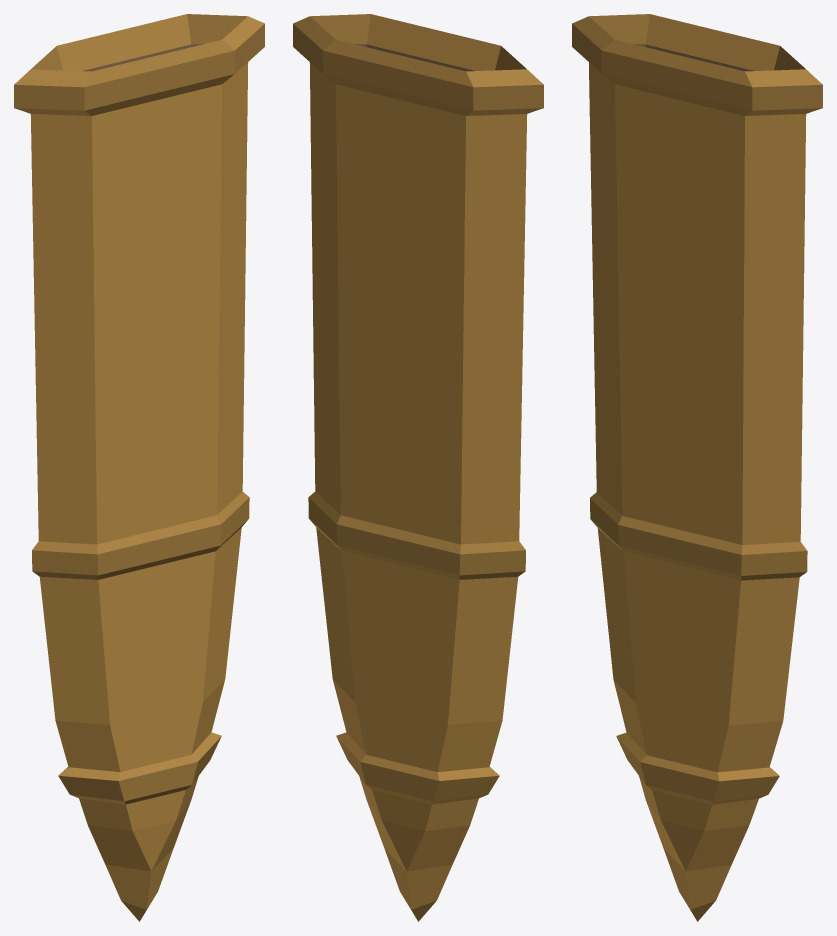
The model's file is SM_pwe_egypt_dagger_scabbard_02.fbx.
3 views of the same model, side by side, from view 1: azimuth 30°, elevation 25°; view 2: azimuth 150°, elevation 25°; view 3: azimuth 330°, elevation 25° (orthographic).
Visible parts, largest first — view 1: SM_pwe_egypt_dagger_scabbard_02; view 2: SM_pwe_egypt_dagger_scabbard_02; view 3: SM_pwe_egypt_dagger_scabbard_02.
Part boxes in pixels (x1=…): SM_pwe_egypt_dagger_scabbard_02: x1=14, y1=14, x2=264, y2=921; SM_pwe_egypt_dagger_scabbard_02: x1=293, y1=14, x2=543, y2=921; SM_pwe_egypt_dagger_scabbard_02: x1=572, y1=14, x2=822, y2=921.
Size of the model in its own units: 11.06 by 37.02 by 3.09.
